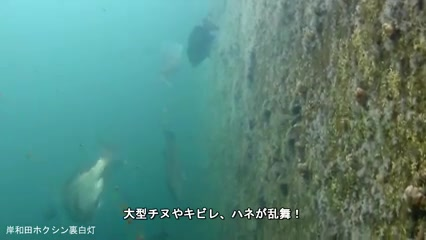smallfish: (55, 142, 122, 218)
smallfishw: (182, 14, 223, 66)
